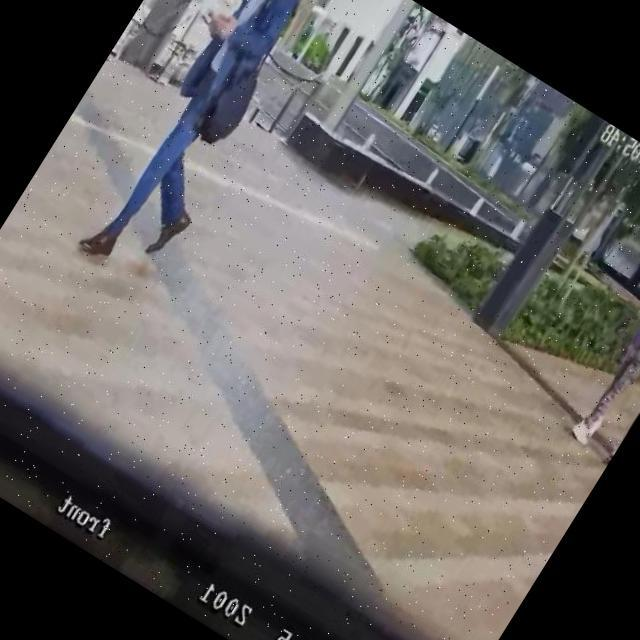person: (67, 0, 352, 291), (566, 236, 640, 455), (601, 307, 640, 465)
